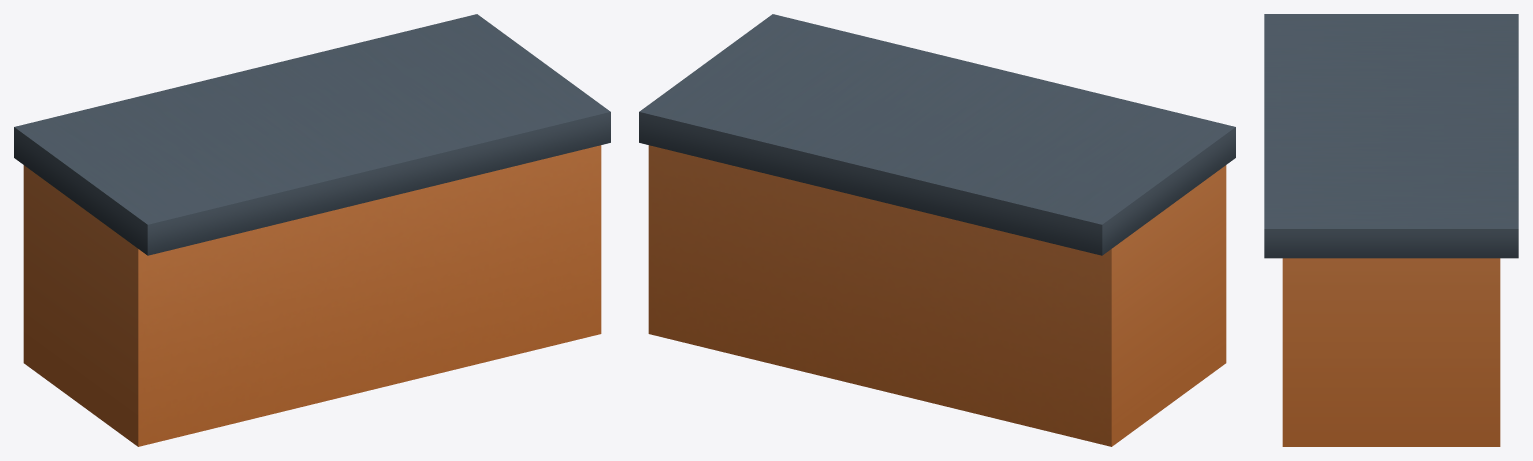
The model's file is Prop_CounterTop.fbx.
3 views of the same model, side by side, from view 1: azimuth 30°, elevation 25°; view 2: azimuth 150°, elevation 25°; view 3: azimuth 270°, elevation 25° (orthographic). The views are drawn at different scales.
Visible parts, largest first — view 1: Prop_CounterTop; view 2: Prop_CounterTop; view 3: Prop_CounterTop.
Boxes of the visible parts, x1,y1,x2,y2 form: Prop_CounterTop: [14, 14, 610, 446]; Prop_CounterTop: [639, 14, 1235, 446]; Prop_CounterTop: [1264, 14, 1518, 446].
Size of the model in its own units: 400 by 189 by 200.
